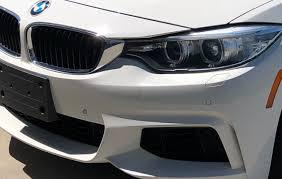front-bumper-dent: (120, 71, 277, 177)
